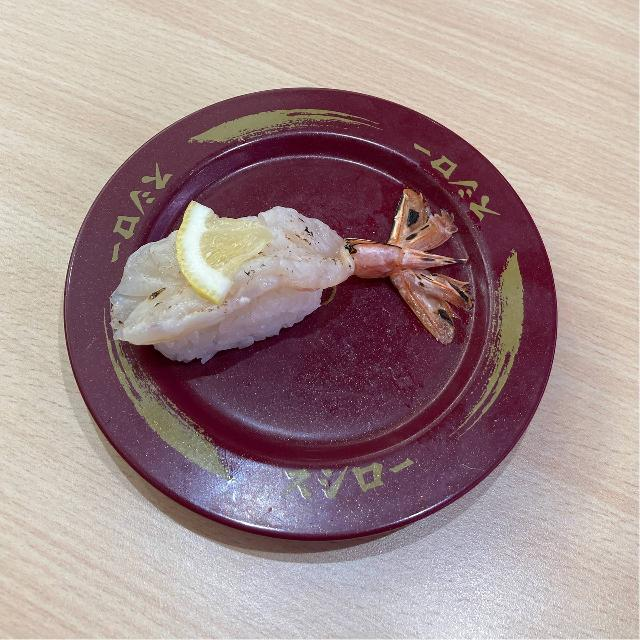janred: (76, 106, 546, 569)
